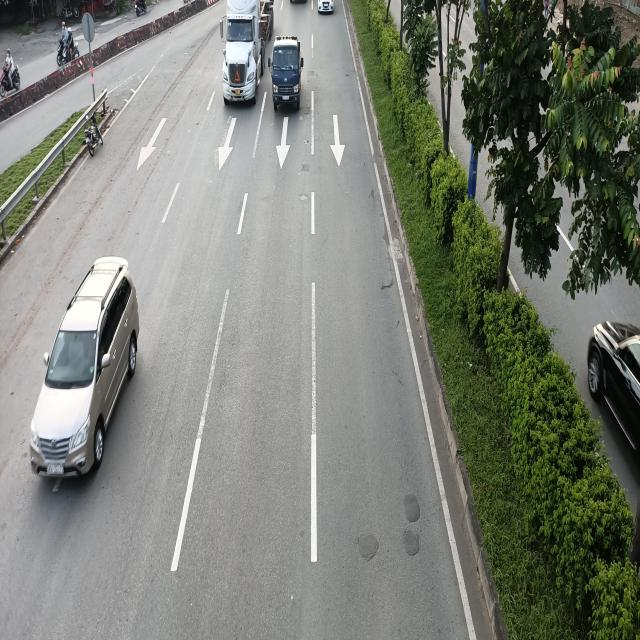car: (34, 259, 142, 480)
container: (218, 0, 274, 103)
truck: (270, 35, 305, 112)
